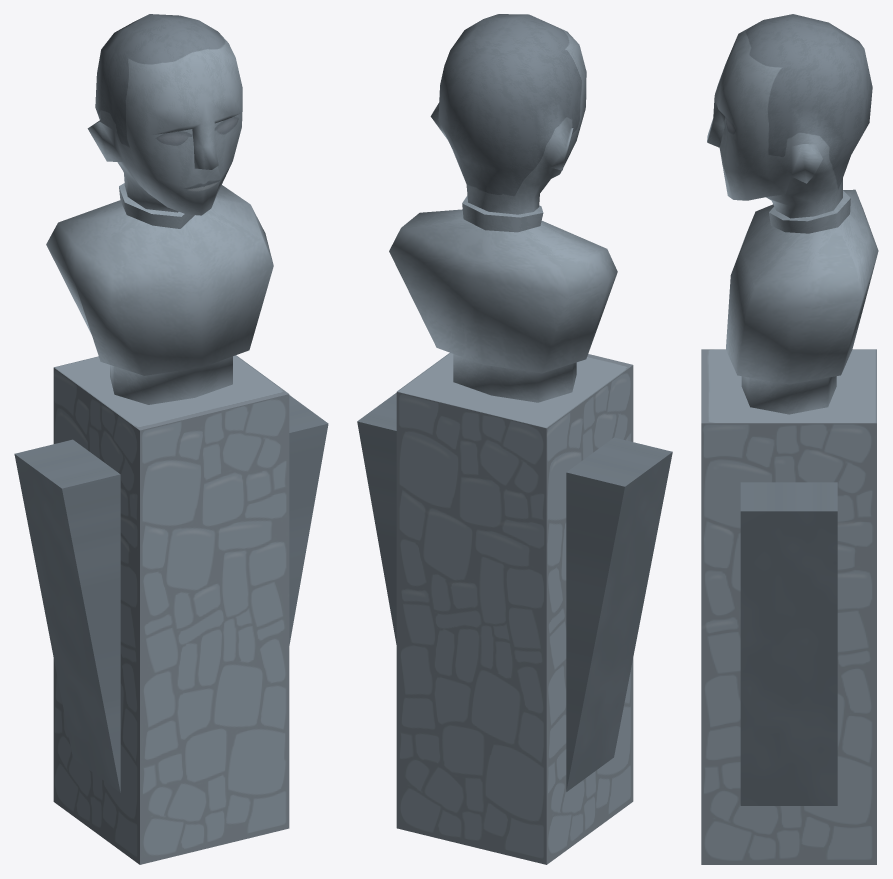
File: Monumento_Busto.fbx
3 views of the same model, side by side, from view 1: azimuth 30°, elevation 25°; view 2: azimuth 150°, elevation 25°; view 3: azimuth 270°, elevation 25° (orthographic).
Parts seen in each view (by area): view 1: Monumento_Busto; view 2: Monumento_Busto; view 3: Monumento_Busto.
Part boxes in pixels (bbox=[...]): Monumento_Busto: bbox=[14, 14, 328, 864]; Monumento_Busto: bbox=[357, 14, 672, 864]; Monumento_Busto: bbox=[701, 14, 878, 864].
Bounding box in the file's own units: 51.04 × 145 × 28.9.
